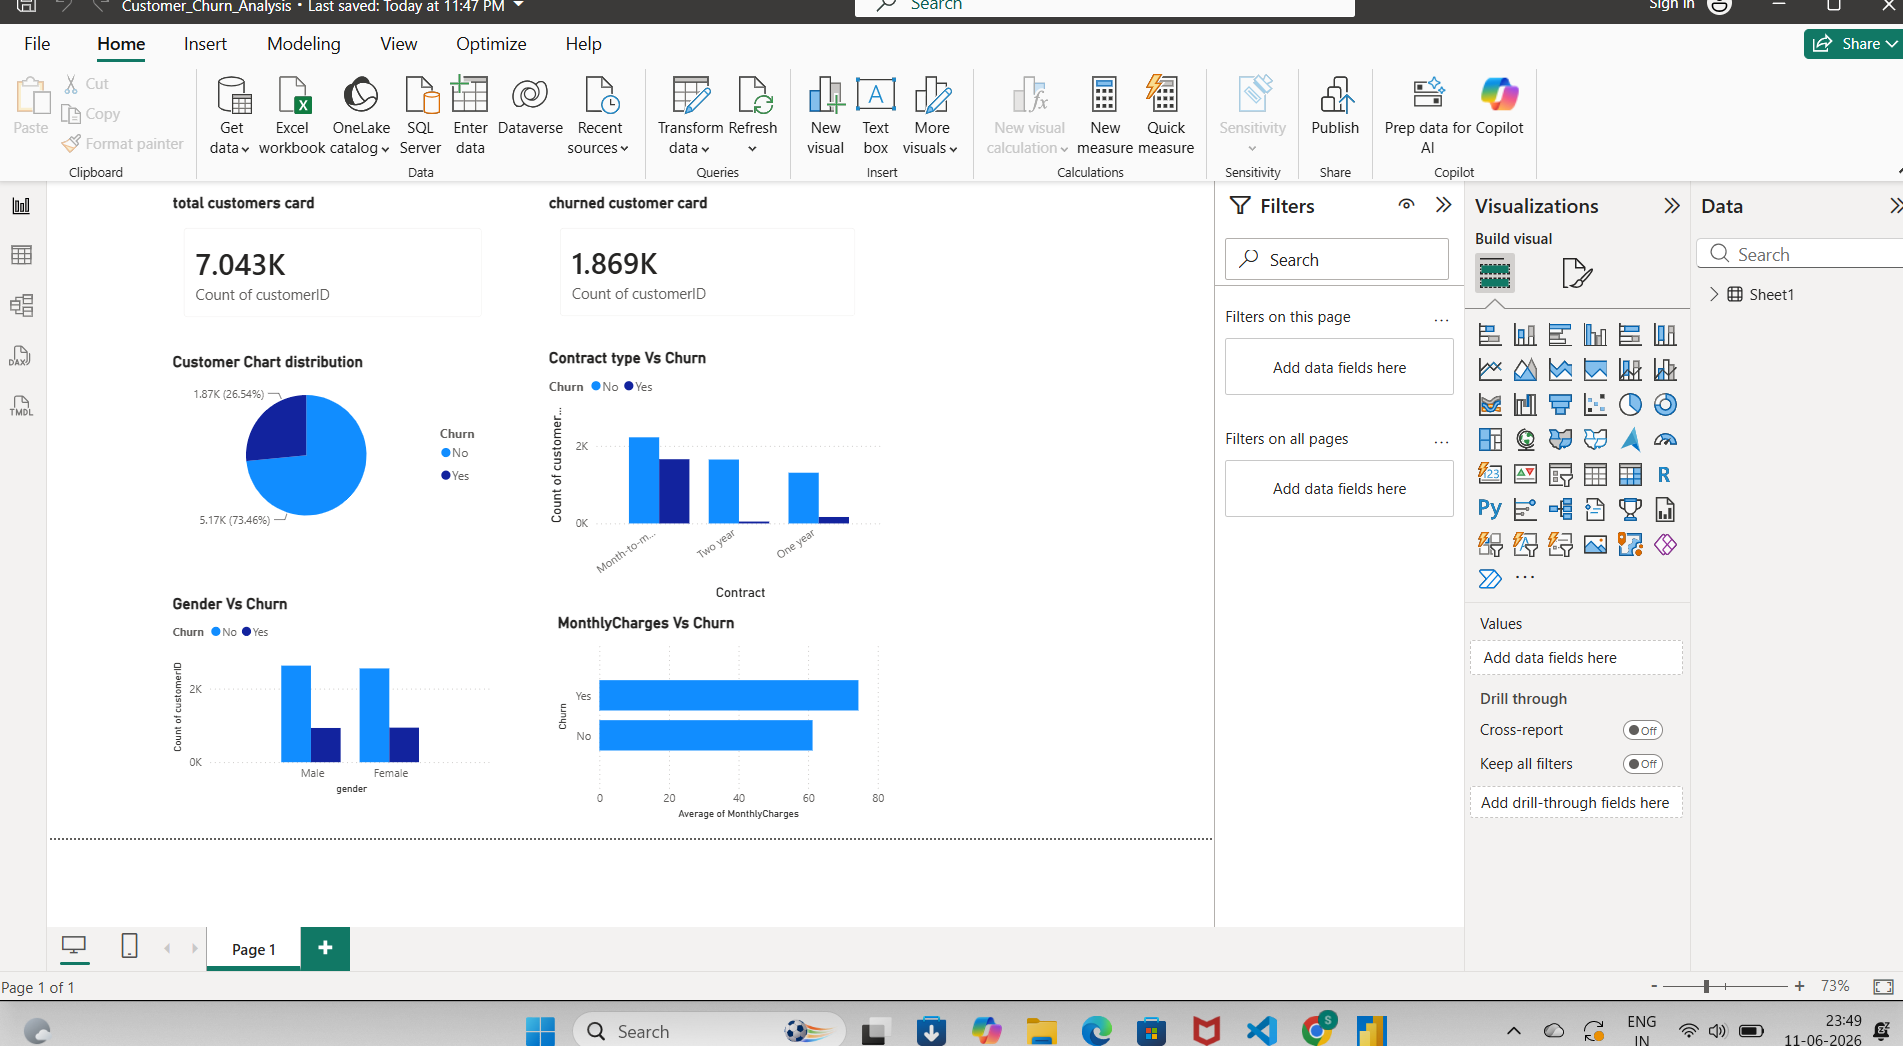

The page's visual inventory and layout, read from the dashboard file:
{"tool":"powerbi","page":{"name":"Page 1","canvas":[1280,720],"ordinal":0},"visuals":[{"type":"cardVisual","title":"churned customer card","fields":{"Data":["Count(Sheet1.customerID)"]},"box":[545.8,13.9,358.3,152.8],"z":0},{"type":"pieChart","title":"Customer Chart distribution","fields":{"Category":["Sheet1.Churn"],"Y":["CountNonNull(Sheet1.customerID)"]},"box":[133.3,187.5,361.1,205.6],"z":1000},{"type":"clusteredColumnChart","title":"Contract type Vs Churn","fields":{"Category":["Sheet1.Contract"],"Y":["CountNonNull(Sheet1.customerID)"],"Series":["Sheet1.Churn"]},"box":[545.8,183.3,377.8,280.6],"z":2000},{"type":"clusteredColumnChart","title":"Gender Vs Churn","fields":{"Category":["Sheet1.gender"],"Y":["CountNonNull(Sheet1.customerID)"],"Series":["Sheet1.Churn"]},"box":[133.3,454.2,361.1,223.6],"z":3000},{"type":"clusteredBarChart","title":"MonthlyCharges Vs Churn","fields":{"Category":["Sheet1.Churn"],"Y":["Avg(Sheet1.MonthlyCharges)"]},"box":[555.6,473.6,368.1,230.6],"z":4000},{"type":"cardVisual","title":"total customers card","fields":{"Data":["Count(Sheet1.customerID)"]},"box":[133,14,361,153],"z":5000}]}

Visuals, with their boxes on the page's 1280x720 design canvas (x1, y1, x2, y2). These are canvas units, not pixel positions in the 1903x1046 screenshot, which may show the page scaled, cropped or inside an application window:
"churned customer card" cardVisual: {"left": 546, "top": 14, "right": 904, "bottom": 167}
"Customer Chart distribution" pieChart: {"left": 133, "top": 188, "right": 494, "bottom": 393}
"Contract type Vs Churn" clusteredColumnChart: {"left": 546, "top": 183, "right": 924, "bottom": 464}
"Gender Vs Churn" clusteredColumnChart: {"left": 133, "top": 454, "right": 494, "bottom": 678}
"MonthlyCharges Vs Churn" clusteredBarChart: {"left": 556, "top": 474, "right": 924, "bottom": 704}
"total customers card" cardVisual: {"left": 133, "top": 14, "right": 494, "bottom": 167}
